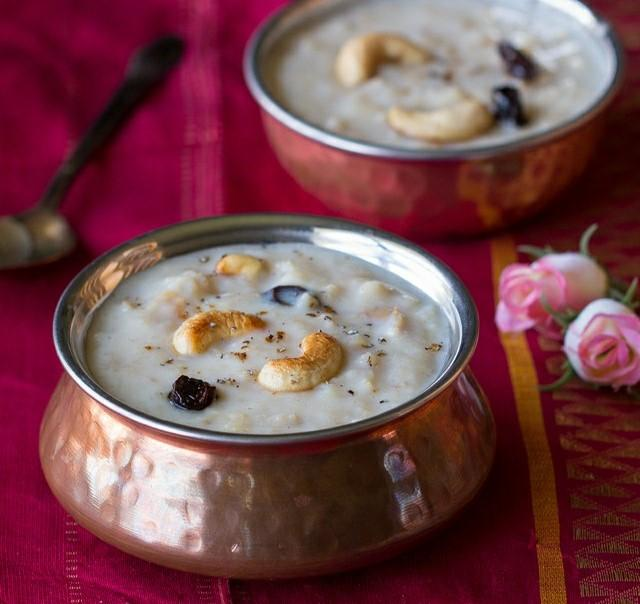Kheer: (84, 243, 456, 438), (266, 0, 615, 149)
